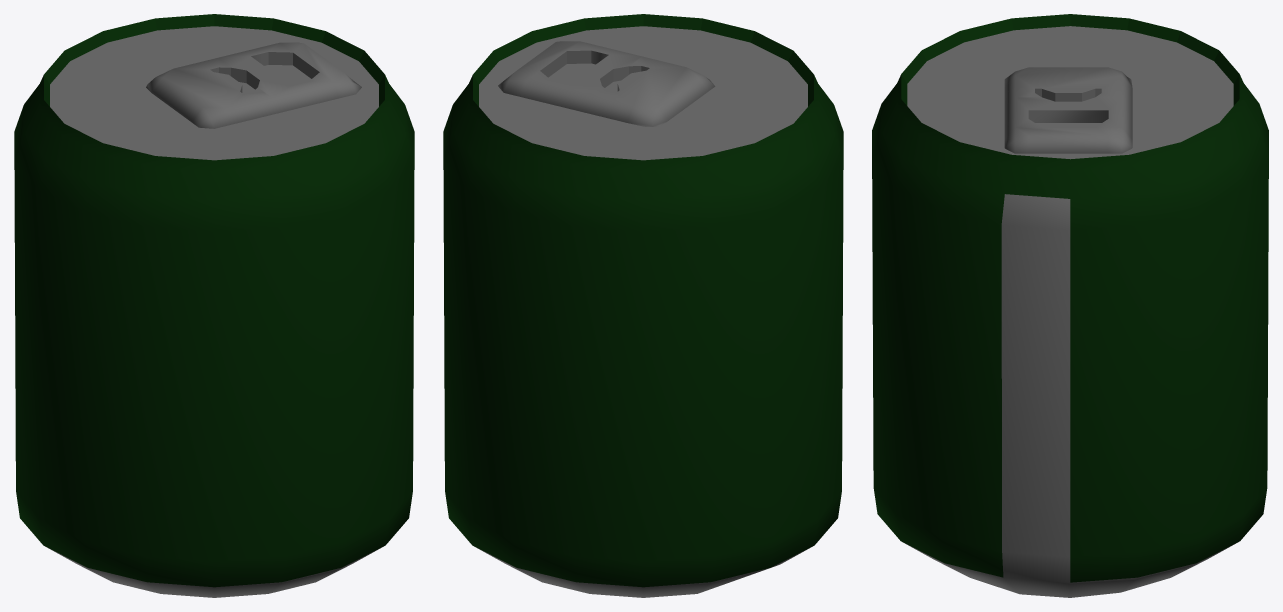
File: Beercan.FBX
3 renders of one model, left to right at view 1: azimuth 30°, elevation 25°; view 2: azimuth 150°, elevation 25°; view 3: azimuth 270°, elevation 25°, orthographic.
Parts seen in each view (by area): view 1: Box001; view 2: Box001; view 3: Box001.
Boxes of the visible parts, <box> form: Box001: <box>14,14,414,597</box>; Box001: <box>443,14,843,597</box>; Box001: <box>872,14,1268,597</box>.
Bounding box in the file's own units: 66.67 × 81.01 × 65.66.
